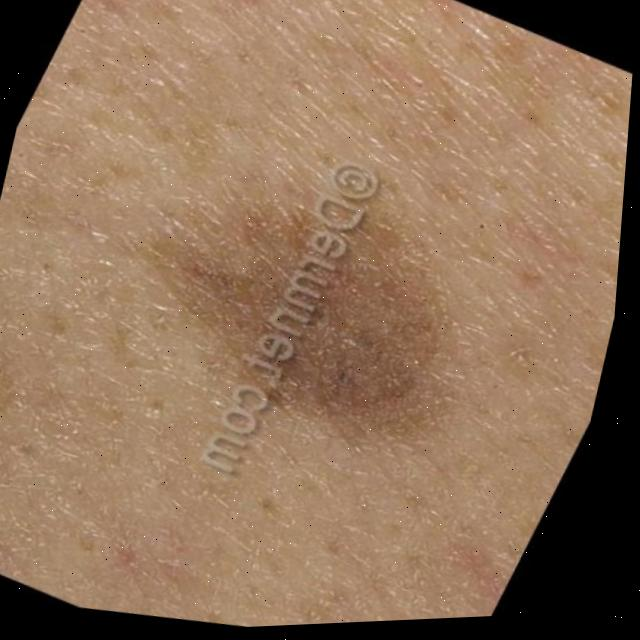Eczema: (175, 197, 430, 392)
